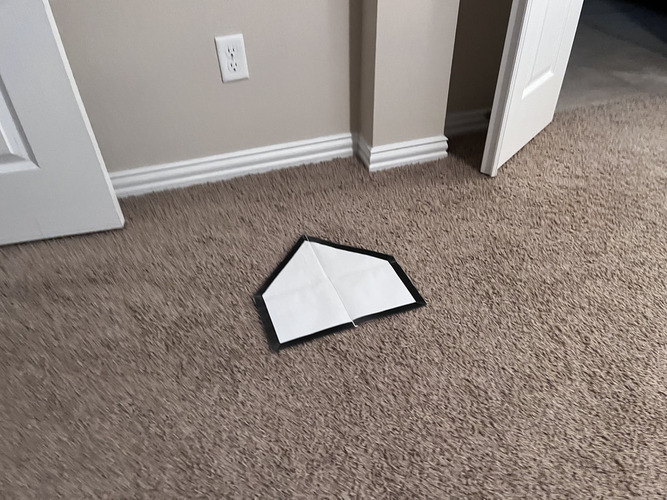homeplate: (253, 234, 426, 352)
